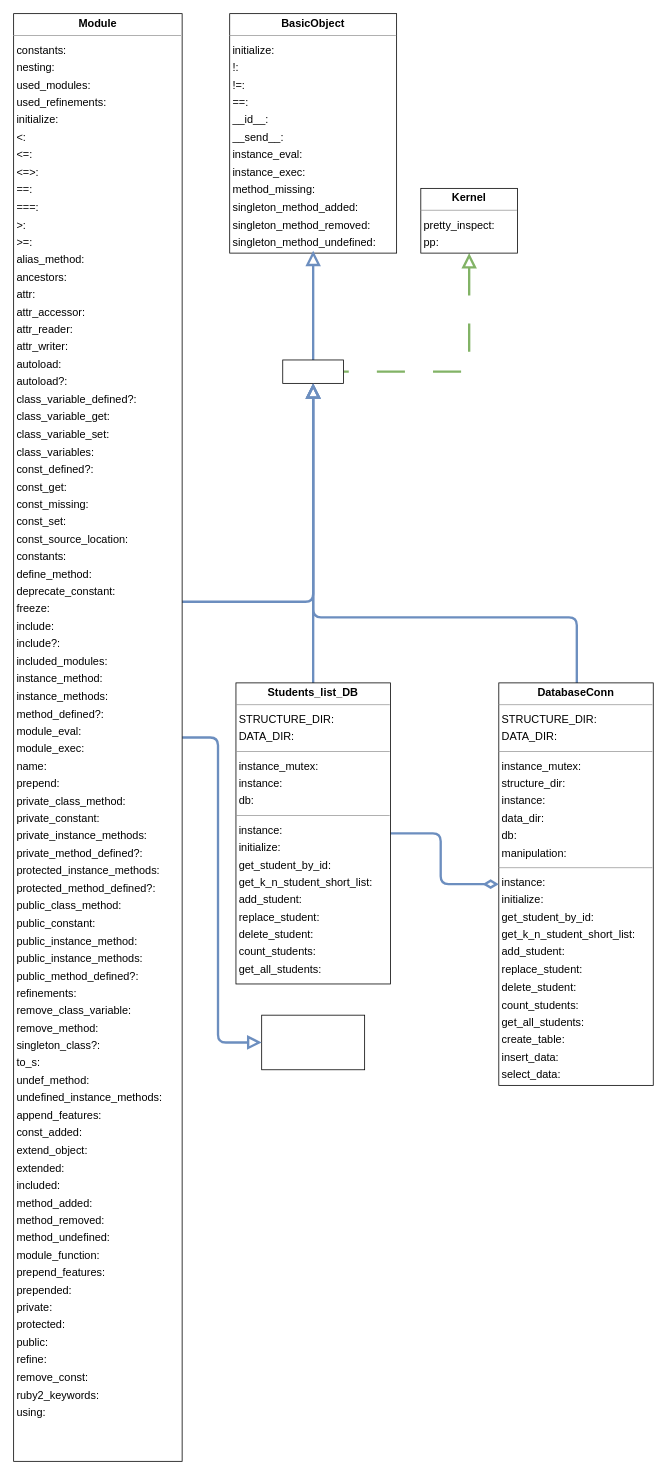
Image size: 667x1475. Some labels were removed from this diagram. Each missing label, with the centre of its shape:
Class json_creatable?:: the point at 313,1042
Object: the point at 313,371
